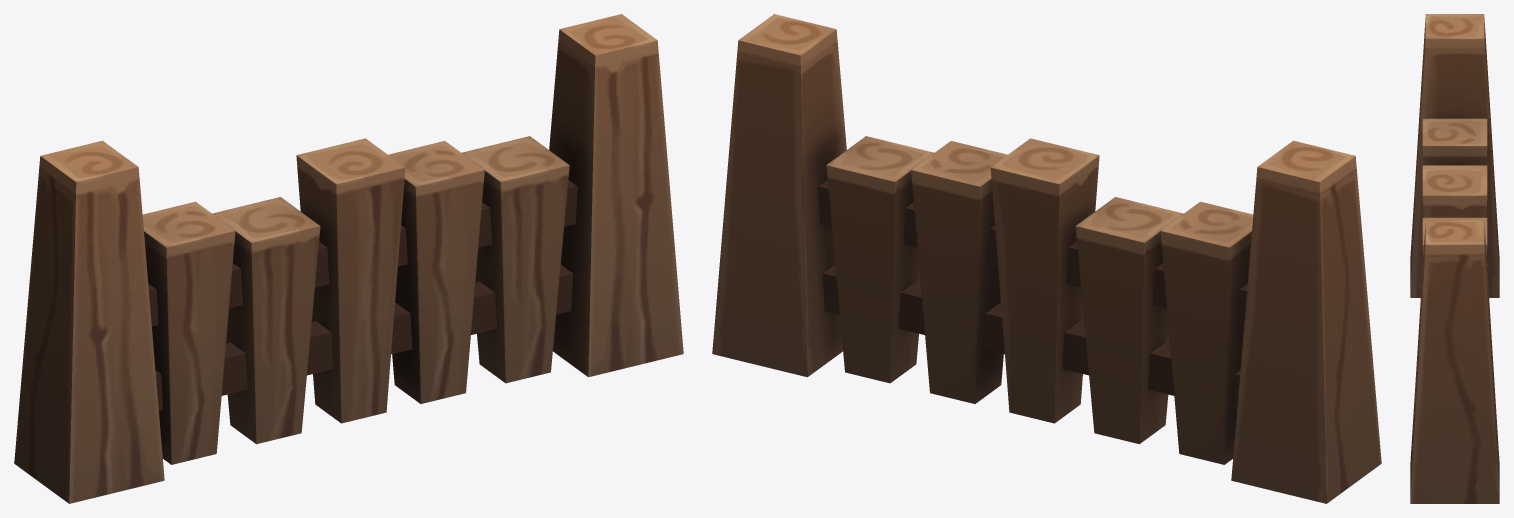
Rendered from fence_tile_01.fbx.
3 views of the same model, side by side, from view 1: azimuth 30°, elevation 25°; view 2: azimuth 150°, elevation 25°; view 3: azimuth 270°, elevation 25° (orthographic). The views are drawn at different scales.
Parts seen in each view (by area): view 1: fence_tile_01; view 2: fence_tile_01; view 3: fence_tile_01.
Part boxes in pixels (x1=…): fence_tile_01: x1=14, y1=14, x2=683, y2=503; fence_tile_01: x1=712, y1=14, x2=1381, y2=503; fence_tile_01: x1=1410, y1=14, x2=1499, y2=503.
Bounding box in the file's own units: 4.42 × 2.14 × 0.6859.
